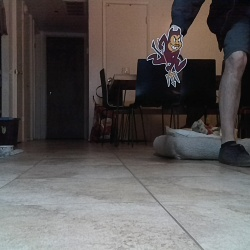sparky: (146, 26, 188, 89)
